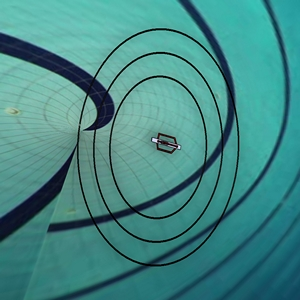circle: (50, 9, 262, 275)
submarine: (141, 123, 188, 168)
